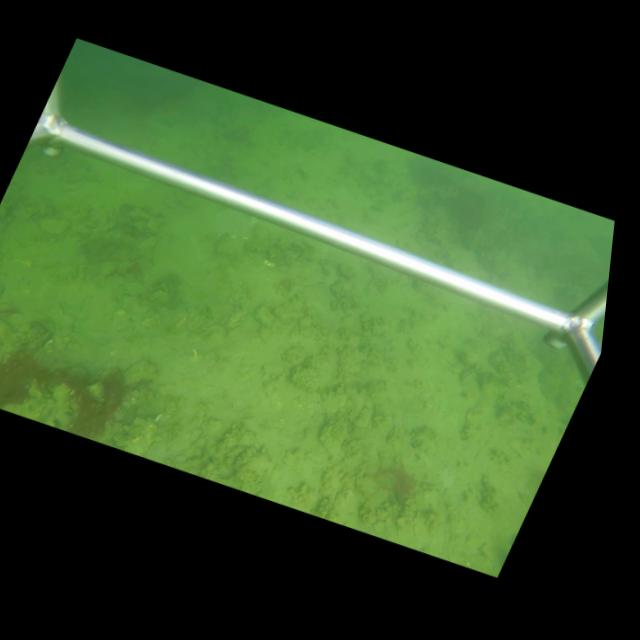Oyster-Closed: (254, 303, 279, 330), (351, 474, 378, 497)
Oyster-Open: (143, 281, 173, 306)
